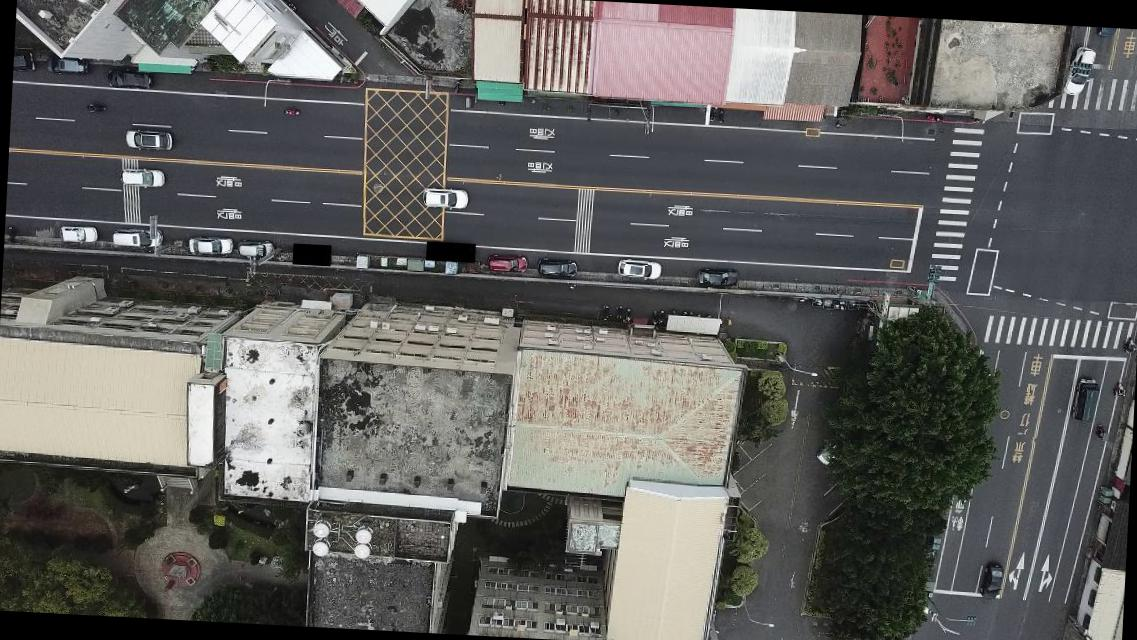vehicle: (1062, 42, 1098, 98), (1072, 374, 1098, 424), (110, 225, 162, 250), (420, 186, 468, 212), (124, 128, 174, 152), (120, 166, 166, 192), (617, 258, 663, 282), (980, 560, 1005, 601), (58, 222, 100, 245), (695, 268, 738, 290), (487, 252, 528, 274), (536, 258, 579, 278), (188, 236, 233, 255), (237, 238, 276, 258)
